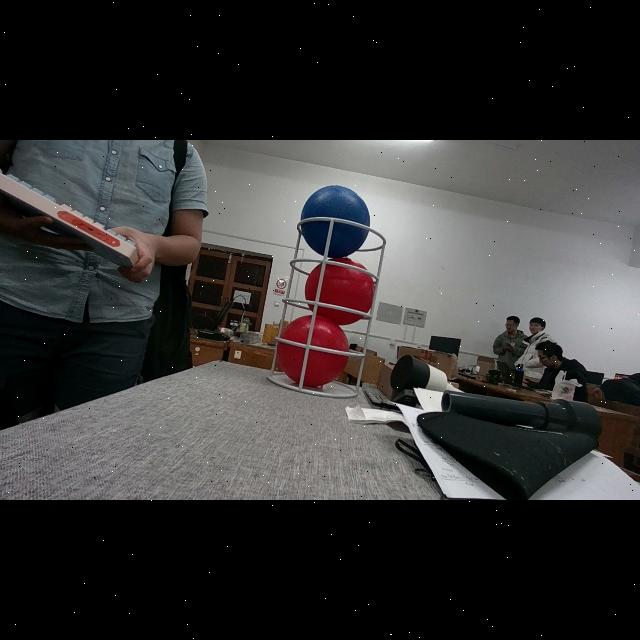B: (300, 186, 372, 258)
R: (278, 316, 348, 386), (306, 257, 374, 325)
S: (267, 217, 387, 399)
